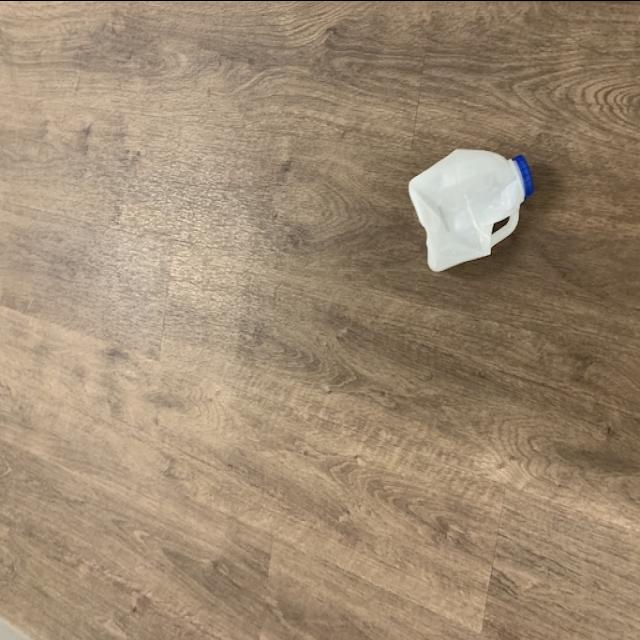litter: (404, 139, 534, 275)
